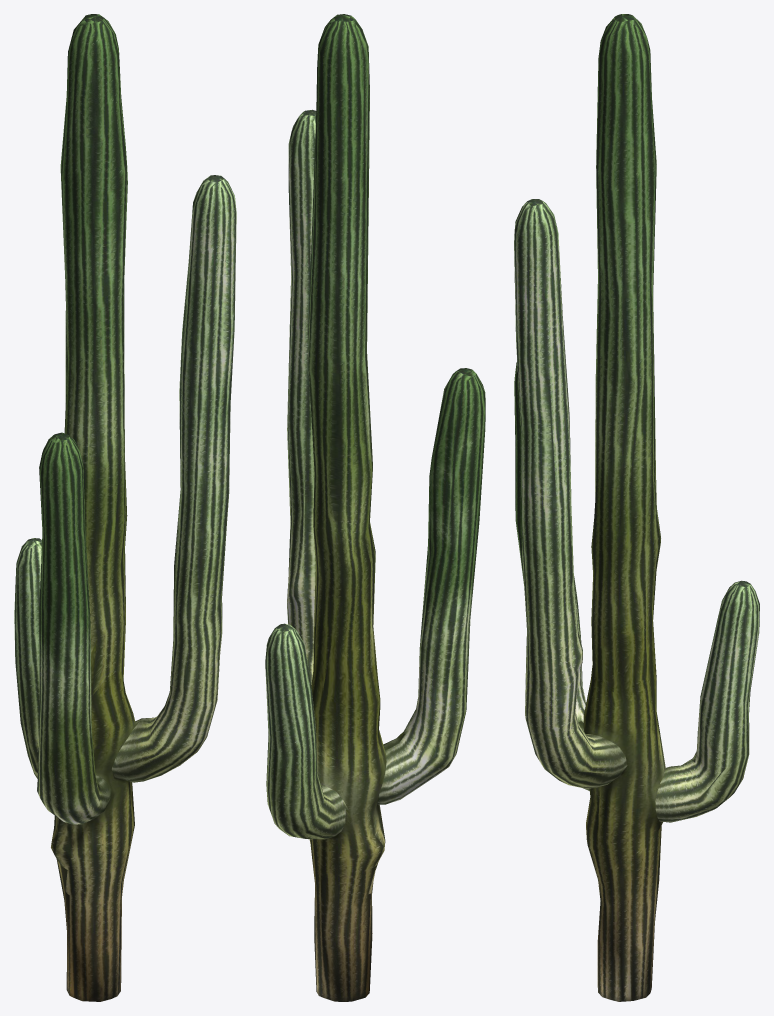
File: Cactus.glb
The picture shows the model from 3 angles, left to right: view 1: azimuth 30°, elevation 25°; view 2: azimuth 150°, elevation 25°; view 3: azimuth 270°, elevation 25°; orthographic projection.
Parts seen in each view (by area): view 1: 10436_Cactus_v1_max2010_it2; view 2: 10436_Cactus_v1_max2010_it2; view 3: 10436_Cactus_v1_max2010_it2.
Part boxes in pixels (box(x1,y1,x2,y2)): 10436_Cactus_v1_max2010_it2: box(14, 14, 236, 1001); 10436_Cactus_v1_max2010_it2: box(265, 14, 485, 1001); 10436_Cactus_v1_max2010_it2: box(514, 14, 759, 1001).
Bounding box in the file's own units: 51.39 × 250 × 57.06.
1 material, 1 textured.
